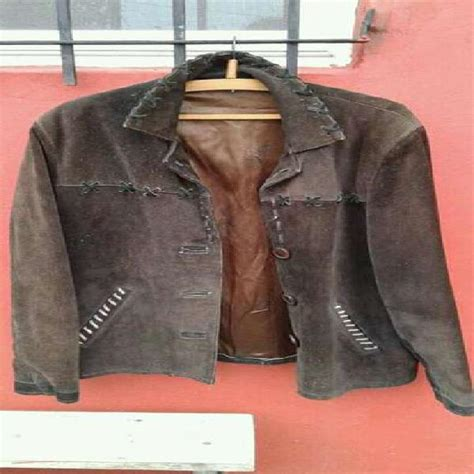gamuza: (10, 76, 474, 411)
